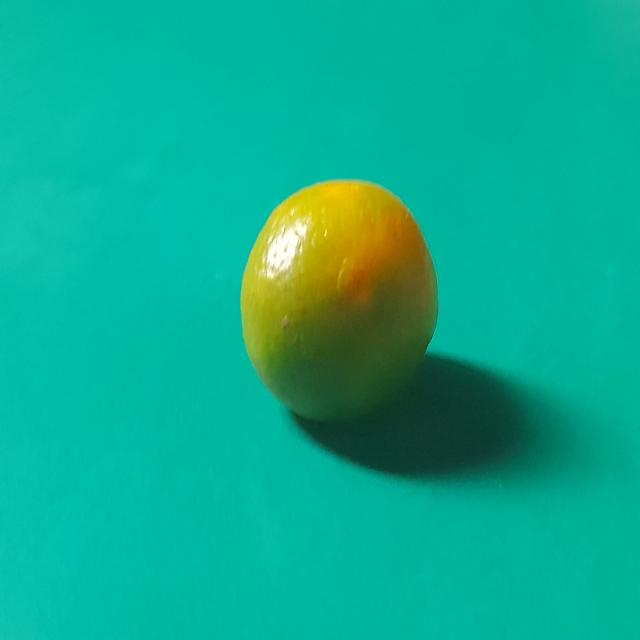greening: (236, 174, 436, 428)
